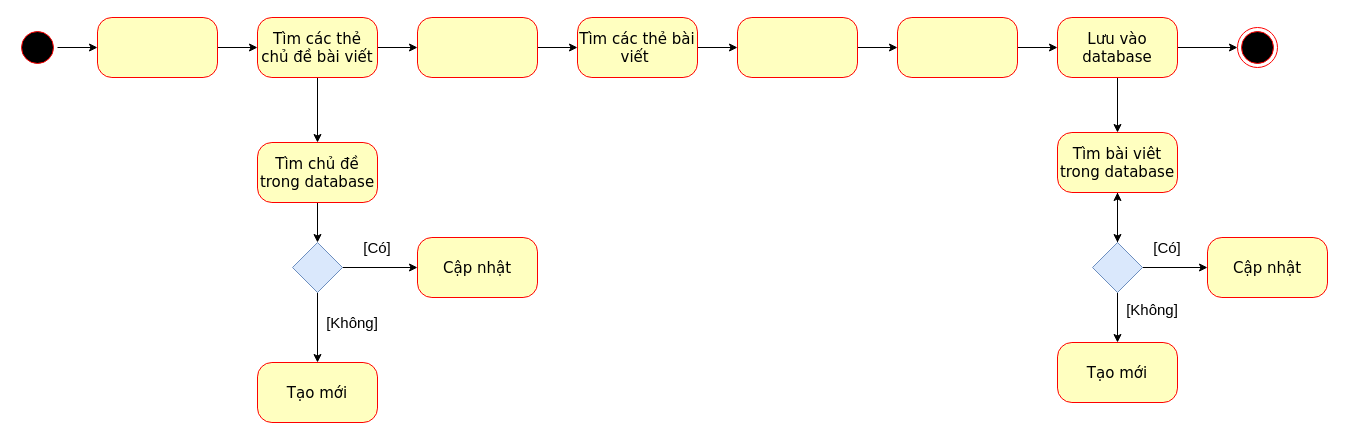
Image size: 1345x440. Some labels were removed from this diagram. The box of each missing label's shape, as (x1, y1, x2, y2) in pixels:
Lấy html của trang bài viết: (736, 16, 858, 78)
Lấy html của trang chủ đề: (416, 16, 538, 78)
Lấy html của trang cần crawler: (96, 16, 218, 78)
Tìm thông tin của bài viết: (896, 16, 1018, 78)
